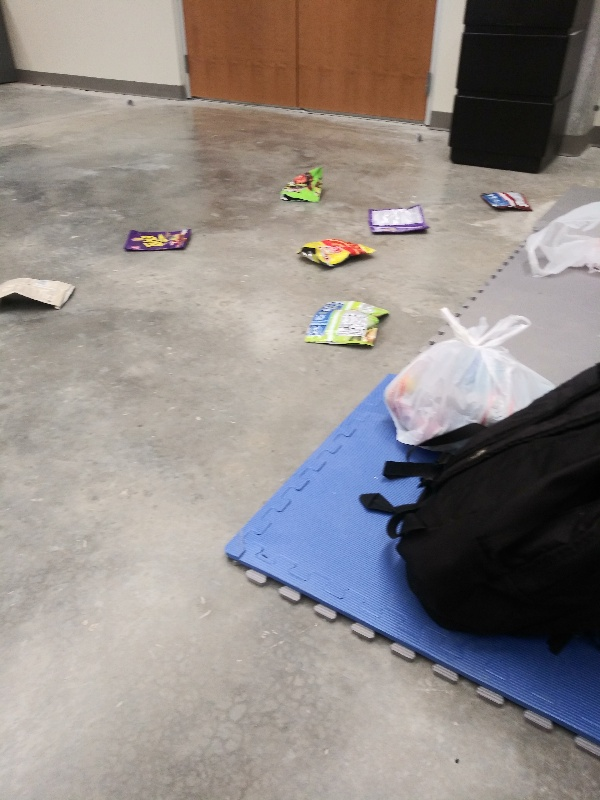bag: (297, 293, 397, 354), (1, 271, 81, 312), (291, 233, 382, 268), (362, 200, 429, 239), (119, 224, 194, 254), (276, 165, 329, 206), (477, 187, 538, 213)
